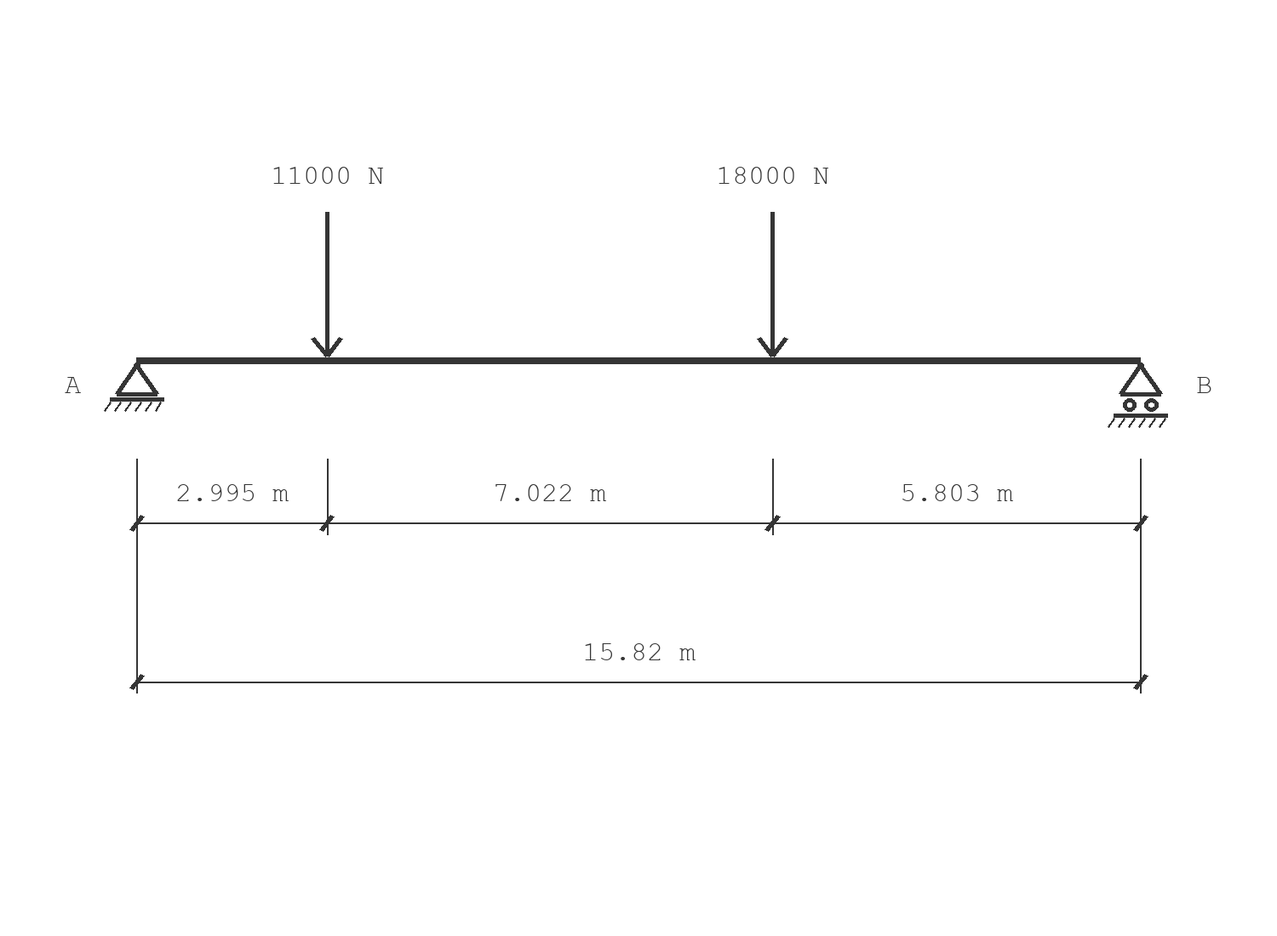pin_support: (104, 362, 164, 412)
point_load: (311, 212, 343, 357), (757, 212, 788, 357)
roller_support: (1108, 362, 1168, 428)
